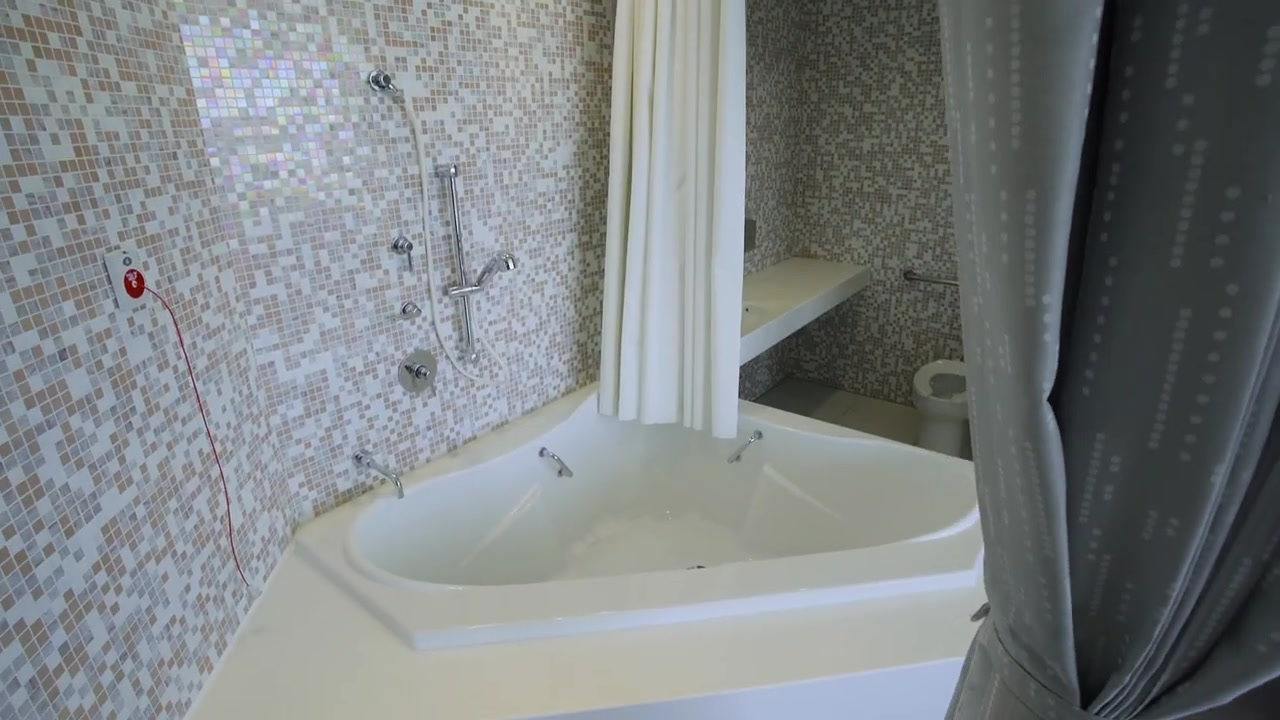counter: (743, 263, 854, 361)
countertop: (744, 250, 863, 330)
curtain: (938, 1, 1280, 720), (597, 1, 746, 438)
faucet: (395, 351, 442, 401), (393, 239, 421, 281), (386, 300, 423, 331)
restroom_assist_bar: (437, 162, 480, 352), (353, 450, 406, 499), (540, 442, 583, 479), (718, 431, 765, 459)
sink: (738, 302, 769, 333)
toilet: (914, 359, 969, 458)
toilet_handle: (903, 266, 959, 288)
